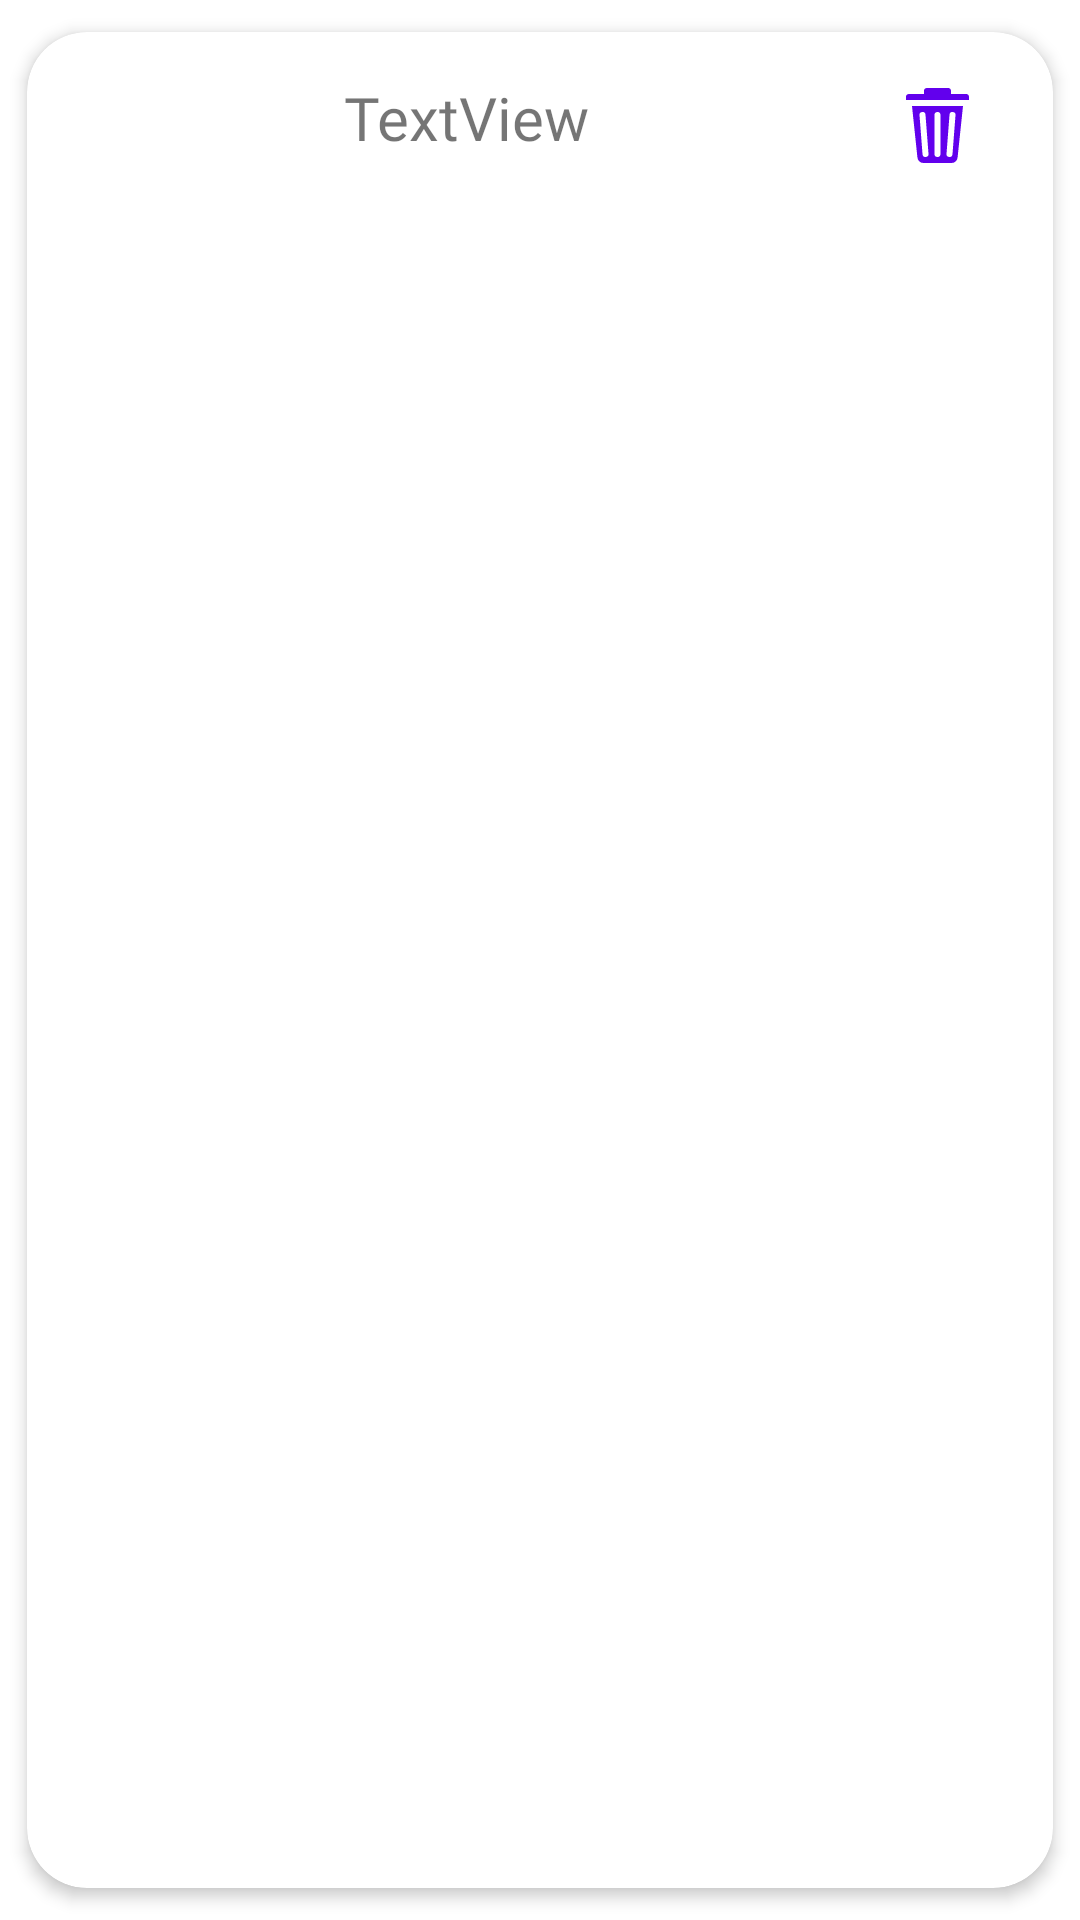

Where icons sit on this 1080x1920 app screen, as (left=x1, top=y1, right=x2, bottom=y2):
delete: (left=906, top=88, right=969, bottom=163)
